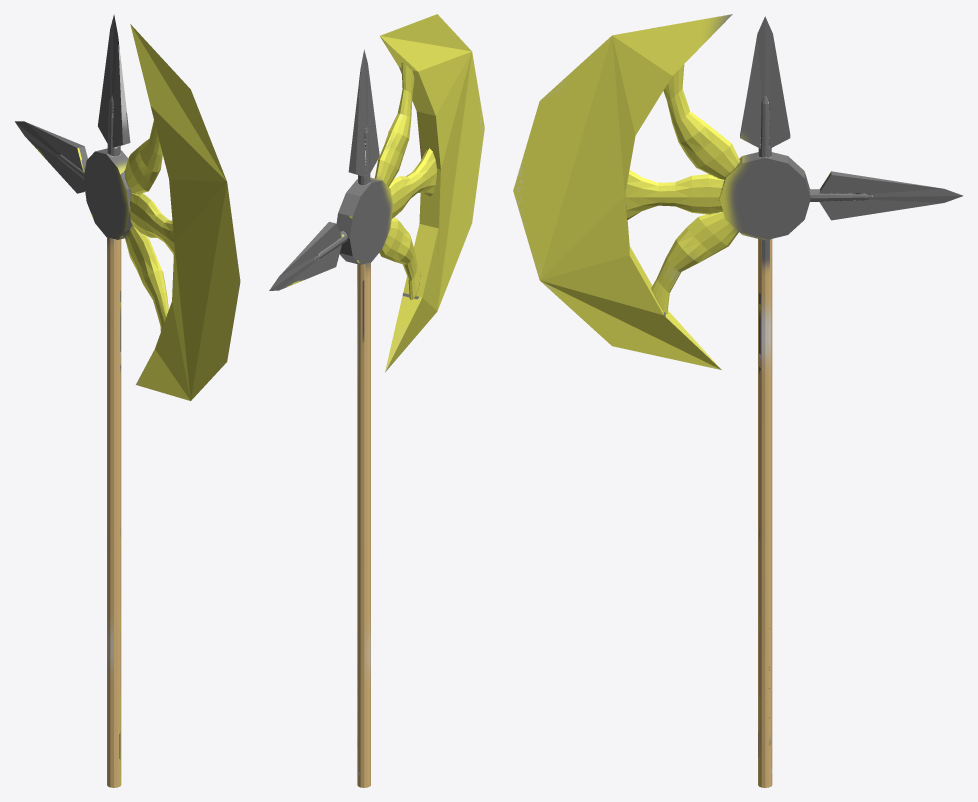
File: wepon.obj
The picture shows the model from 3 angles, left to right: view 1: azimuth 30°, elevation 25°; view 2: azimuth 150°, elevation 25°; view 3: azimuth 270°, elevation 25°; orthographic projection. The views are drawn at different scales.
Visible parts, largest first — view 1: Cube; view 2: Cube; view 3: Cube.
Boxes of the visible parts, x1,y1,x2,y2 form: Cube: (15, 14, 240, 787); Cube: (269, 14, 484, 787); Cube: (513, 14, 963, 787).
Size of the model in its own units: 0.2657 by 9.75 by 5.16.
1 material, 1 textured.
